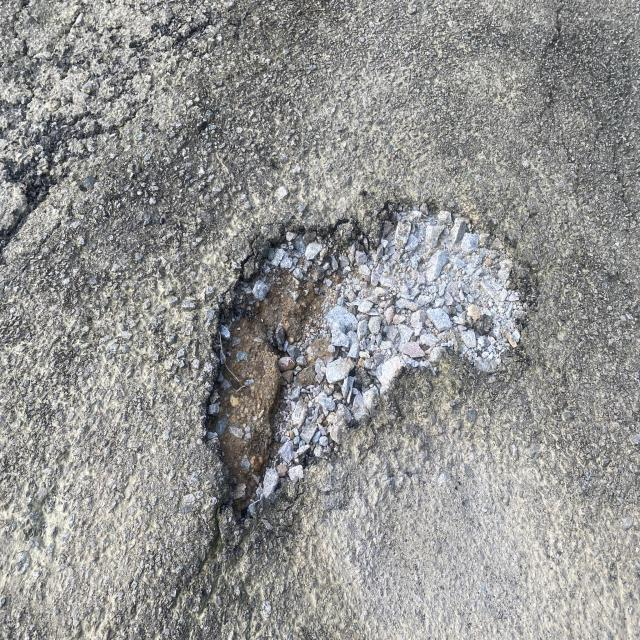Pothole: (181, 179, 575, 526)
